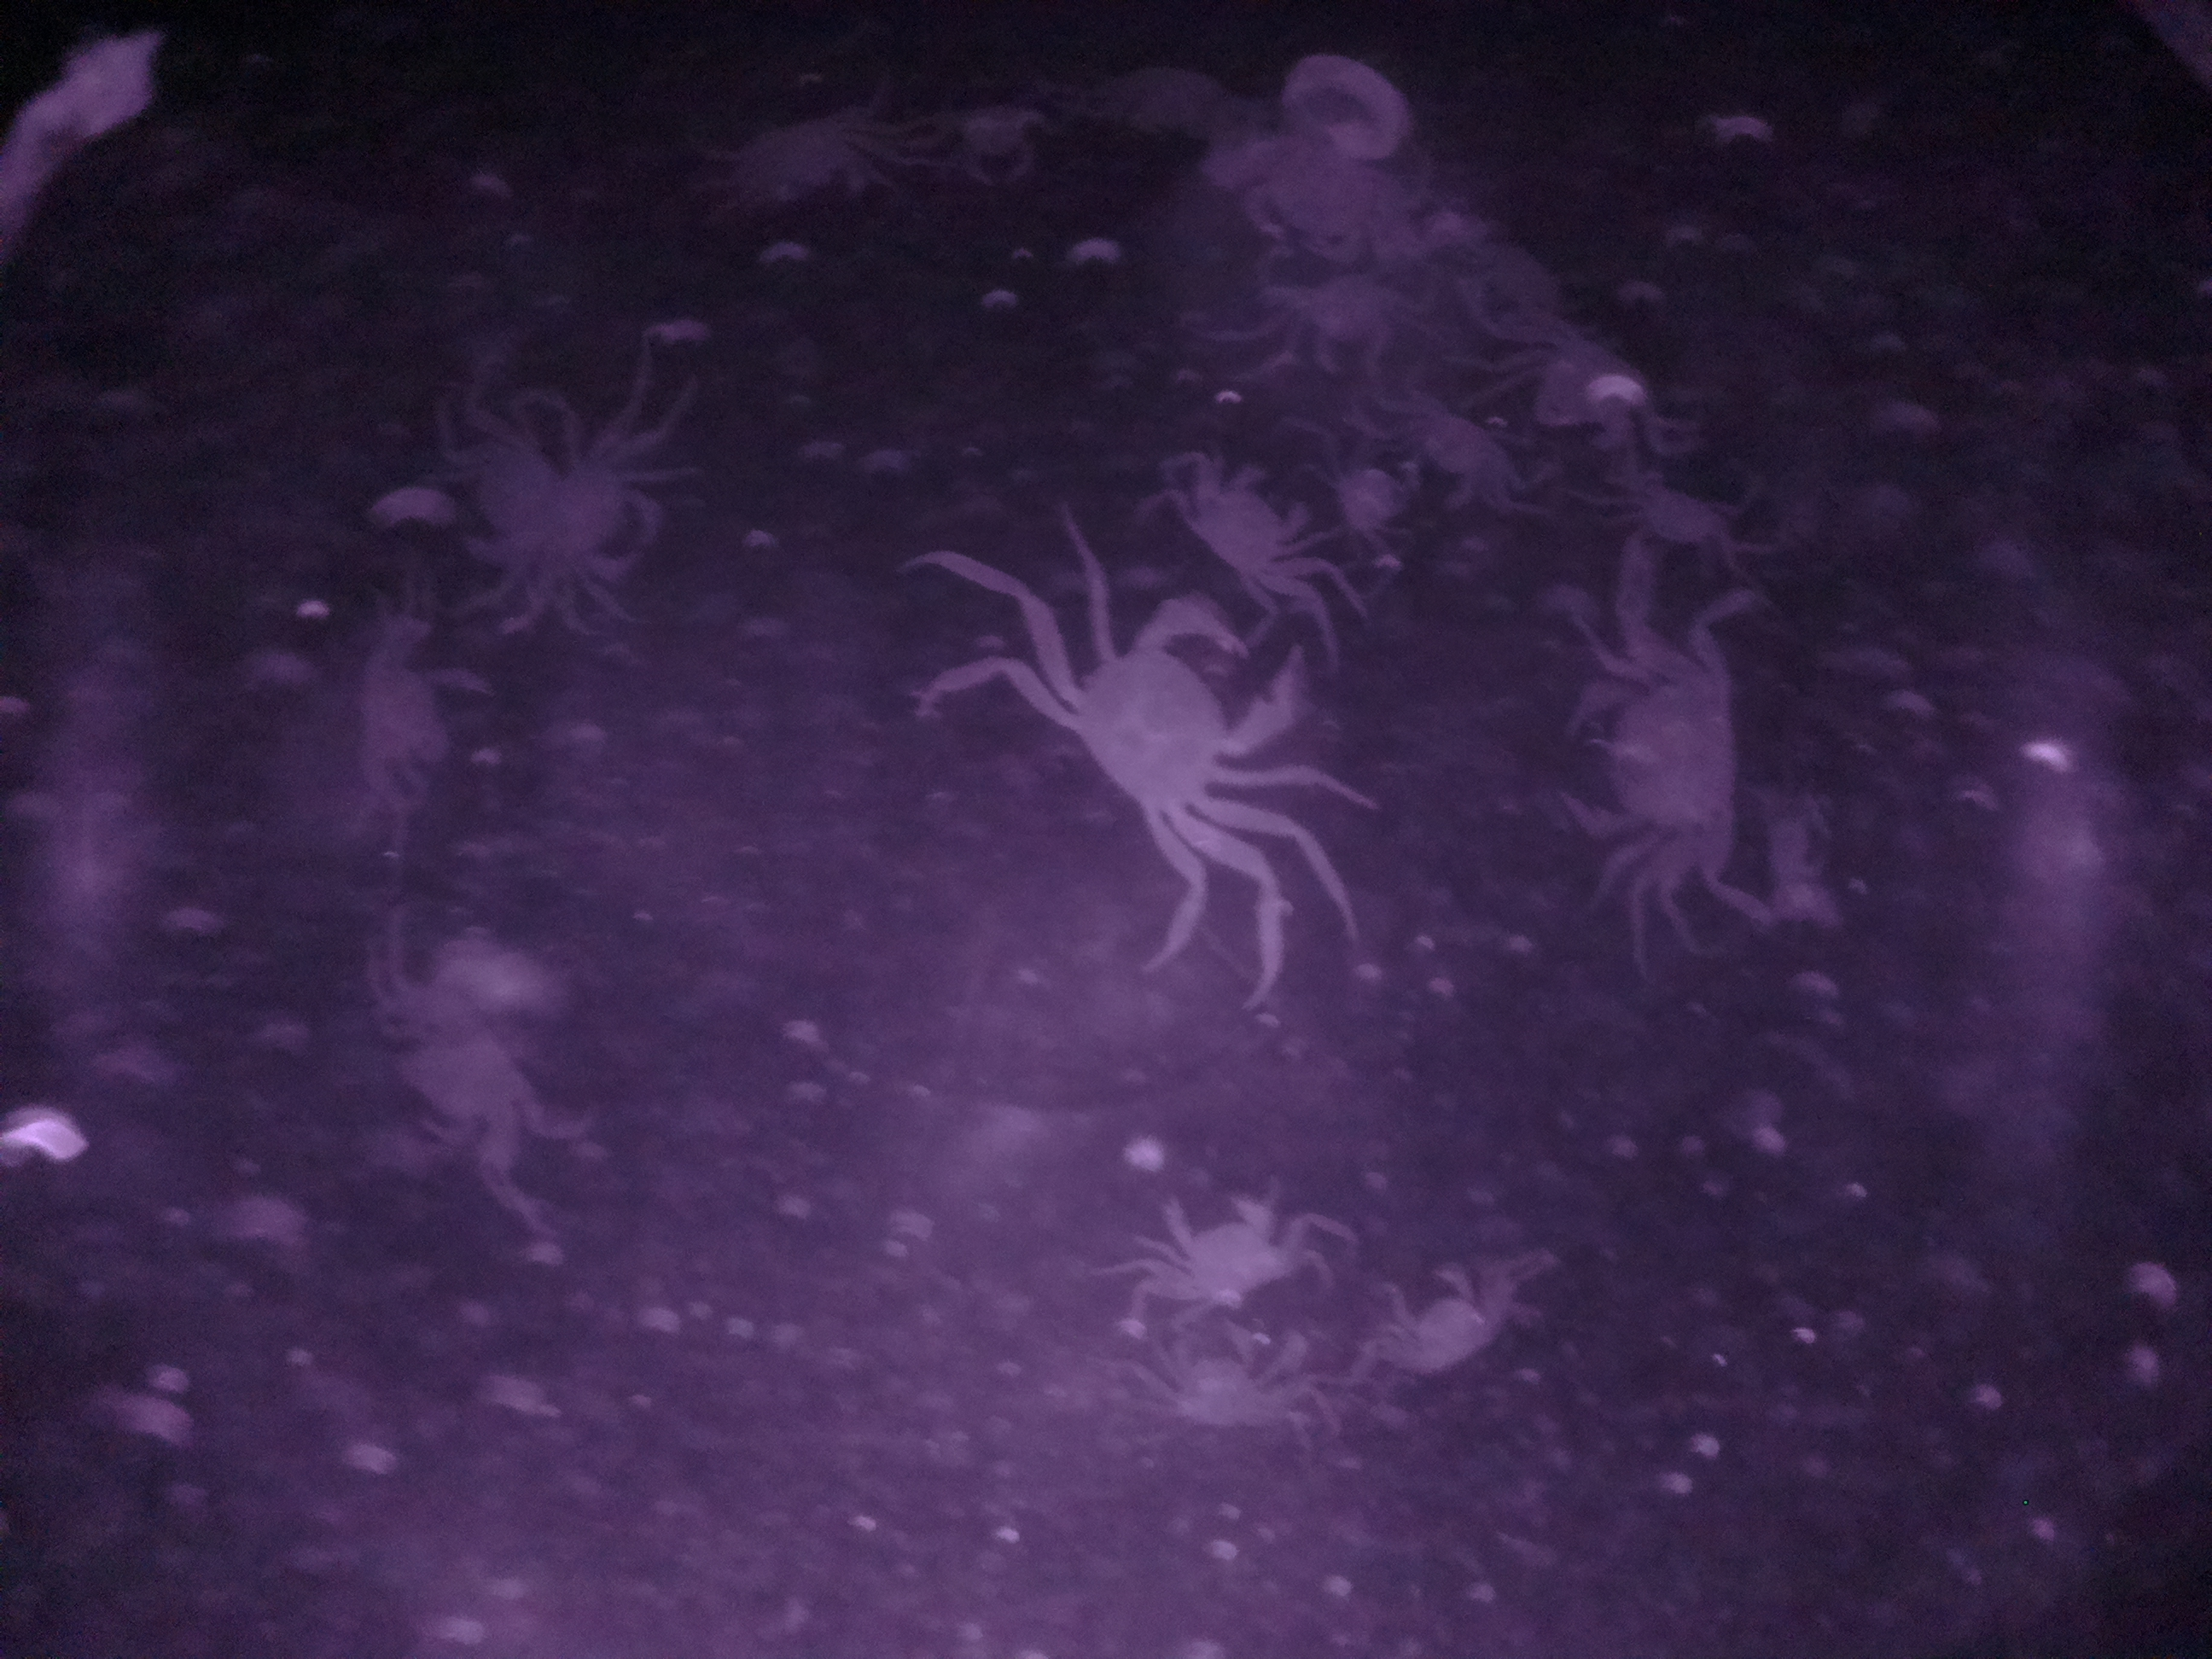Crab: (1008, 587, 1317, 894), (1548, 626, 1754, 896), (1134, 1175, 1315, 1333), (1352, 1243, 1527, 1399), (1176, 446, 1329, 594)
